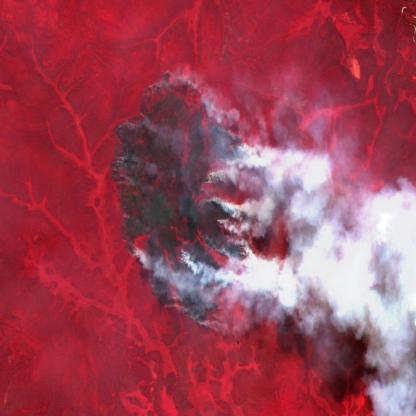fire: (104, 72, 260, 330)
